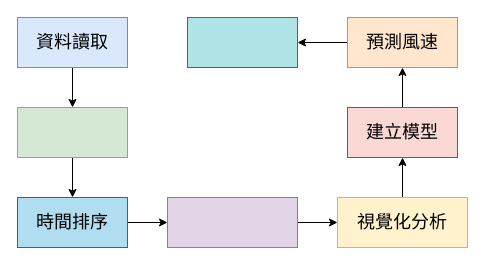
The diagram is 485 pixels wide and 265 high, and some of its shapes have lost their labels. The centre of each missing label's shape, as x and y in pixels:
"建立 lag 特徵" goes at (232,222).
"評估結果" goes at (242,42).
"資料清理 (缺失值處理)" goes at (72,132).
